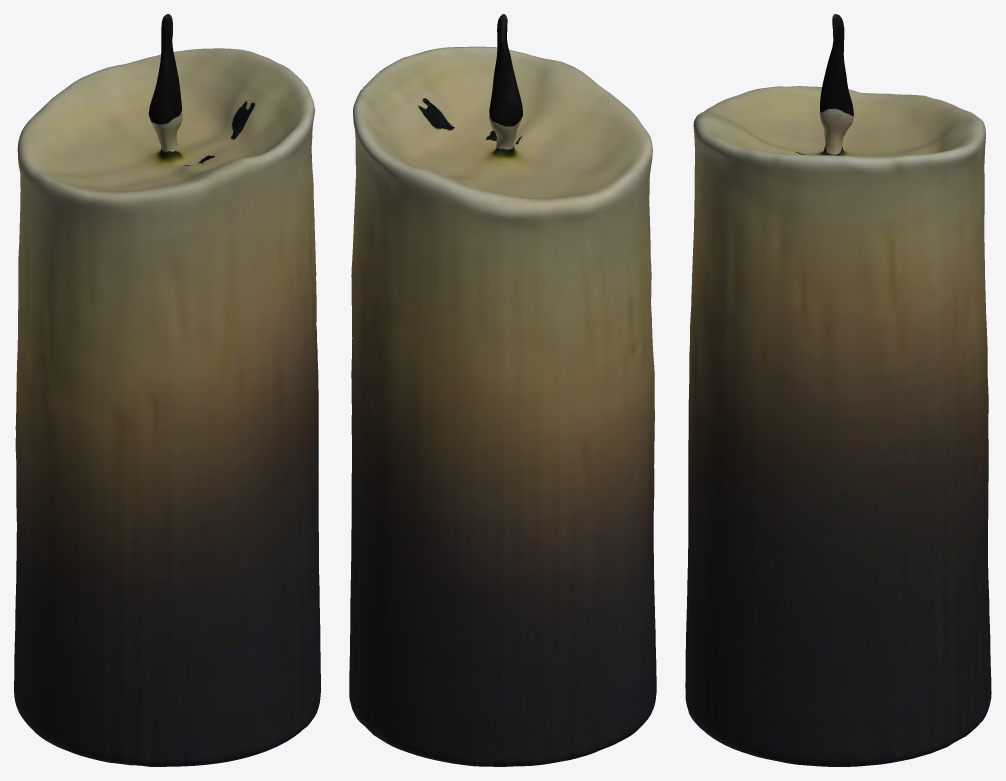
File: 7fdff0eb3309_candle__3d_asset_0_.fbx
The picture shows the model from 3 angles, left to right: view 1: azimuth 30°, elevation 25°; view 2: azimuth 150°, elevation 25°; view 3: azimuth 270°, elevation 25°; orthographic projection.
Parts seen in each view (by area): view 1: mesh; view 2: mesh; view 3: mesh.
Part boxes in pixels (box(x1,y1,x2,y2)): mesh: box(14, 14, 320, 766); mesh: box(349, 14, 656, 766); mesh: box(685, 14, 991, 766).
Bounding box in the file's own units: 39.86 × 99.67 × 39.94.
